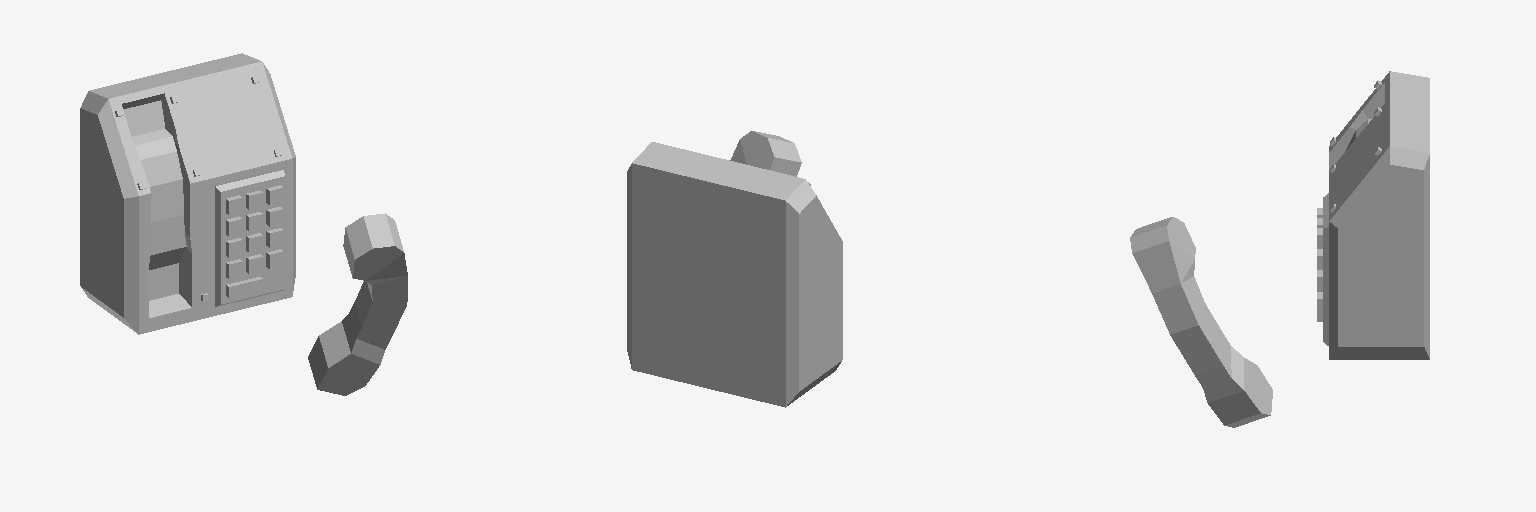
The model's file is Phone_Pickup23.obj.
3 renders of one model, left to right at view 1: azimuth 30°, elevation 25°; view 2: azimuth 150°, elevation 25°; view 3: azimuth 270°, elevation 25°, orthographic.
Parts seen in each view (by area): view 1: Phonebox, Phone; view 2: Phonebox, Phone; view 3: Phonebox, Phone.
Boxes of the visible parts, x1,y1,x2,y2 form: Phonebox: [80, 53, 295, 334]; Phone: [308, 213, 407, 395]; Phonebox: [627, 142, 842, 407]; Phone: [730, 131, 801, 176]; Phonebox: [1317, 71, 1429, 359]; Phone: [1130, 217, 1272, 427].
Size of the model in its own units: 0.3119 by 0.4024 by 0.392.